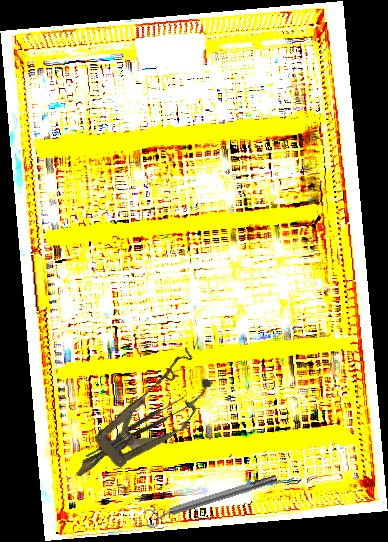Fixation Ring: (141, 469, 281, 530)
Speculum: (57, 346, 226, 500)
Tissue Forceps: (82, 396, 190, 462)
